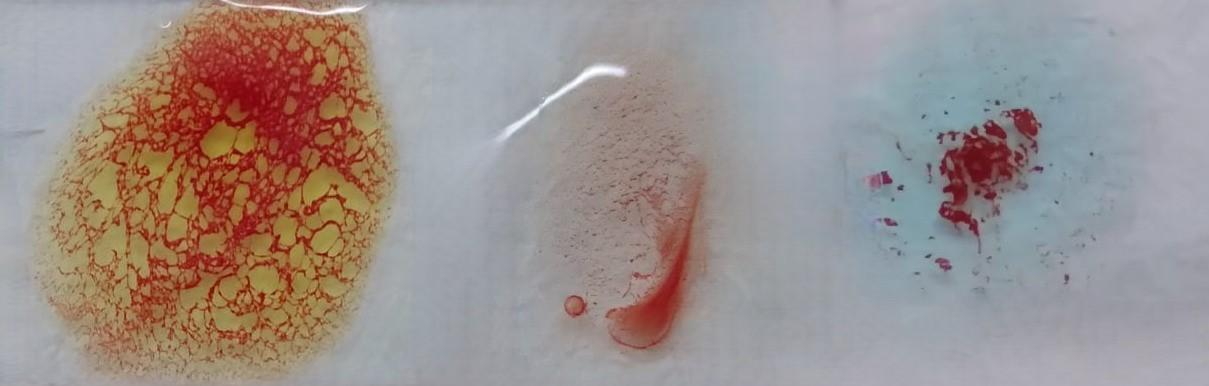A: (863, 18, 1105, 301)
B: (88, 4, 363, 386)
D: (518, 14, 726, 369)
